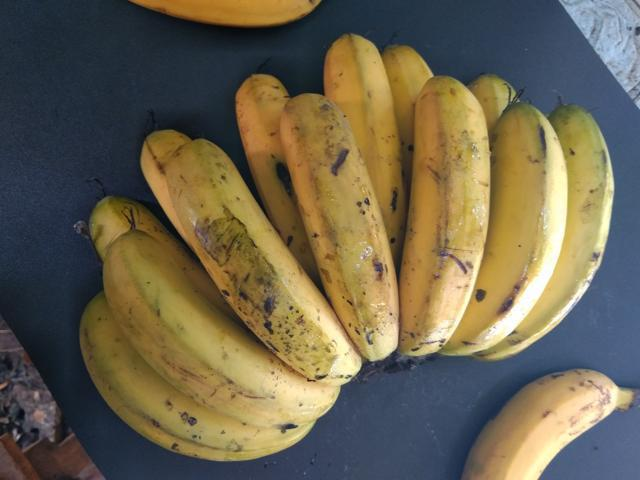ripe: (166, 134, 354, 373), (92, 242, 343, 414), (361, 71, 503, 368), (283, 87, 401, 384), (452, 87, 569, 345), (515, 83, 625, 348), (462, 376, 614, 479)
